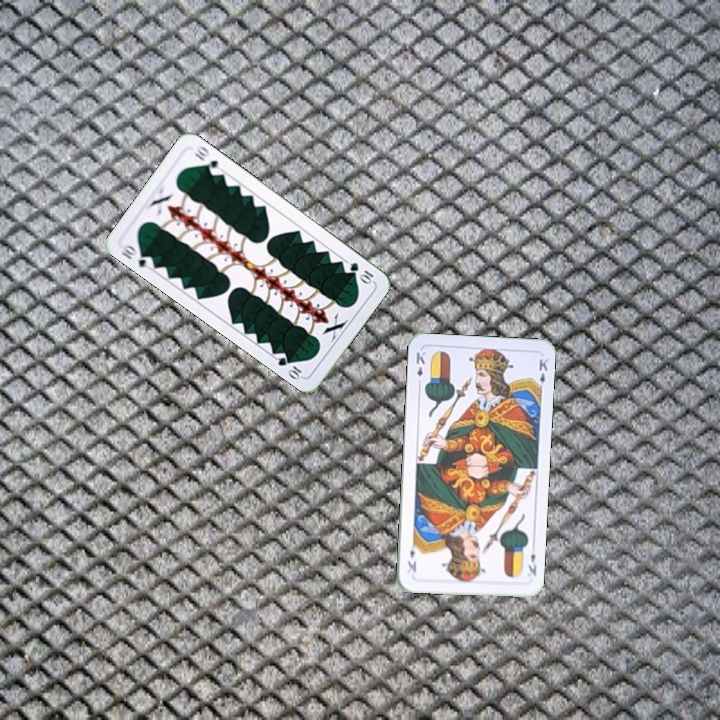EK: (412, 348, 427, 388), (524, 549, 539, 579)
G10: (117, 240, 156, 272), (345, 258, 376, 286)
